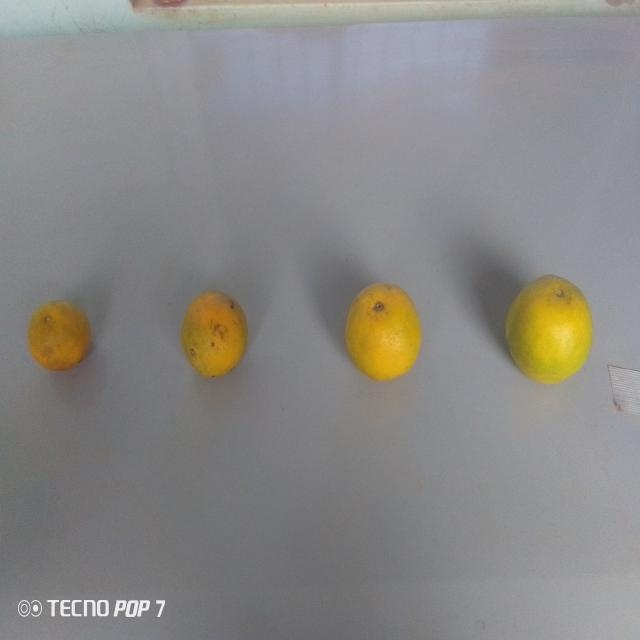agrume: (488, 274, 600, 402), (332, 283, 432, 389), (178, 289, 256, 386), (24, 295, 93, 385)
